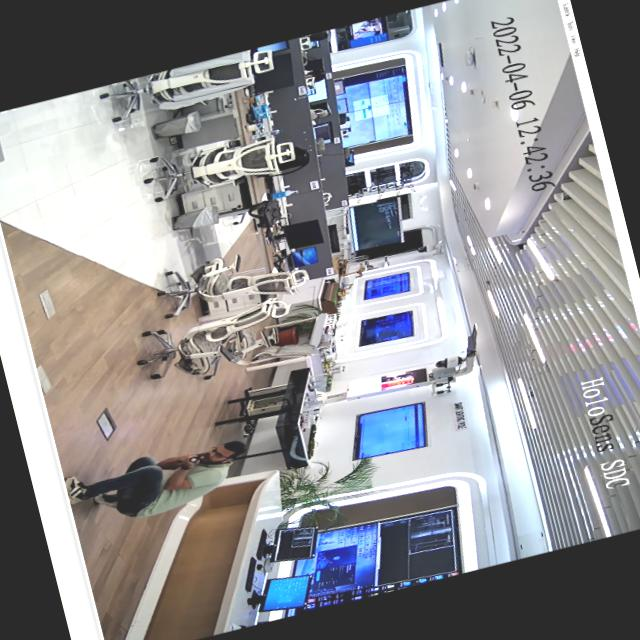long weapon: (164, 444, 217, 474)
